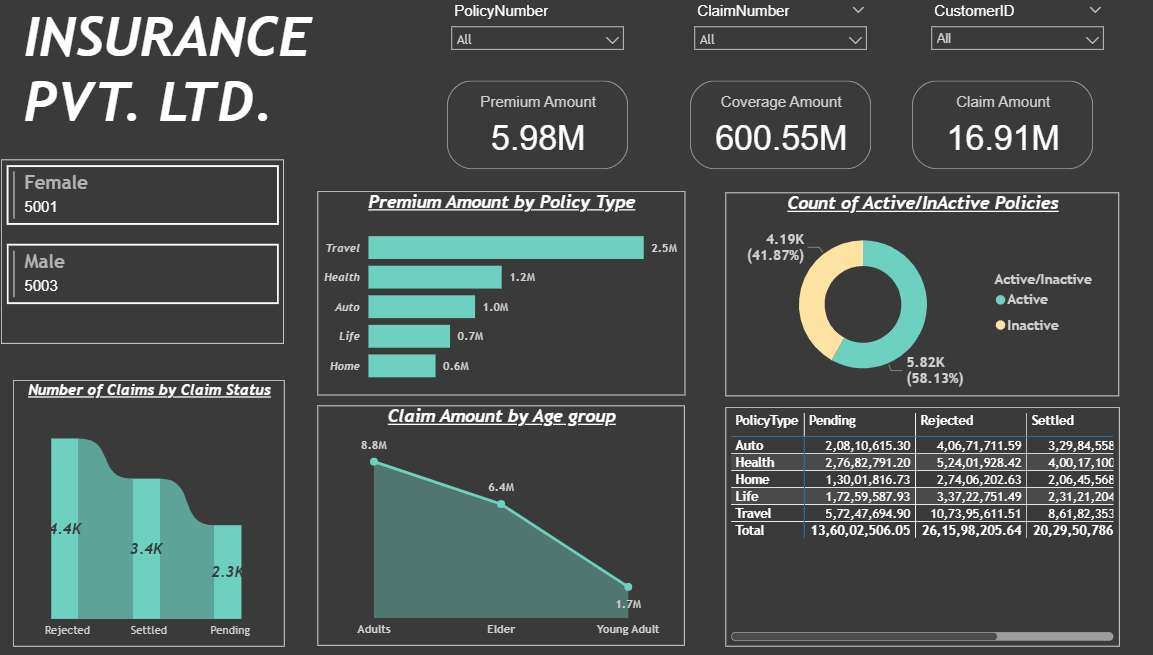

Layout of this report page (visuals, bound fields, positions):
{"tool":"powerbi","page":{"name":"Page 1","canvas":[1280,720],"ordinal":0},"visuals":[{"type":"slicer","fields":{"Values":["InsuranceData.PolicyNumber"]},"box":[477.9,17.6,202.9,76.5],"z":0},{"type":"slicer","fields":{"Values":["InsuranceData.ClaimNumber"]},"box":[735.3,17.6,202.9,76.5],"z":1000},{"type":"slicer","fields":{"Values":["InsuranceData.CustomerID"]},"box":[986.8,17.6,202.9,76.5],"z":2000},{"type":"textbox","box":[27.9,19.1,369.1,151.5],"z":3000},{"type":"cardVisual","fields":{"Data":["Sum(InsuranceData.PremiumAmount)"]},"box":[477.9,100,202.9,104.4],"z":4000},{"type":"cardVisual","fields":{"Data":["Sum(InsuranceData.CoverageAmount)"]},"box":[735.3,100,202.9,104.4],"z":5000},{"type":"cardVisual","fields":{"Data":["Sum(InsuranceData.ClaimAmount)"]},"box":[970.6,100,202.9,104.4],"z":6000},{"type":"multiRowCard","fields":{"Values":["InsuranceData.Gender","CountNonNull(InsuranceData.Gender)"]},"box":[10.3,189.7,300,195.6],"z":7000},{"type":"ribbonChart","title":"Number of Claims by Claim Status","fields":{"Category":["InsuranceData.ClaimStatus"],"Y":["CountNonNull(InsuranceData.ClaimStatus)"]},"box":[22.1,423.5,288.2,282.4],"z":8000},{"type":"barChart","title":"Premium Amount by Policy Type","fields":{"Category":["InsuranceData.PolicyType"],"Y":["Sum(InsuranceData.PremiumAmount)"]},"box":[345.8,222,389.8,216.9],"z":9000},{"type":"lineChart","title":"Claim Amount by Age group","fields":{"Category":["InsuranceData.Age Group"],"Y":["Sum(InsuranceData.ClaimAmount)"]},"box":[345.6,450.9,389.5,254.4],"z":10000},{"type":"donutChart","title":"Count of Active/InActive Policies","fields":{"Category":["InsuranceData.Active/Inactive"],"Y":["CountNonNull(InsuranceData.Active/Inactive)"]},"box":[777.2,224.6,417.5,215.8],"z":11000},{"type":"pivotTable","fields":{"Values":["Sum(InsuranceData.CoverageAmount)"],"Rows":["InsuranceData.PolicyType"],"Columns":["InsuranceData.ClaimStatus"]},"box":[777.1,451.4,417.9,254.3],"z":12000}]}

Visuals, with their boxes in screenshot pixels (x1, y1, x2, y2), scaled from the page's 1280x720 canvas onto the 1153x655 screenshot:
slicer - InsuranceData.PolicyNumber: left=430, top=16, right=613, bottom=86
slicer - InsuranceData.ClaimNumber: left=662, top=16, right=845, bottom=86
slicer - InsuranceData.CustomerID: left=889, top=16, right=1072, bottom=86
textbox: left=25, top=17, right=358, bottom=155
cardVisual - Sum(InsuranceData.PremiumAmount): left=430, top=91, right=613, bottom=186
cardVisual - Sum(InsuranceData.CoverageAmount): left=662, top=91, right=845, bottom=186
cardVisual - Sum(InsuranceData.ClaimAmount): left=874, top=91, right=1057, bottom=186
multiRowCard - InsuranceData.Gender x CountNonNull(InsuranceData.Gender): left=9, top=173, right=280, bottom=351
"Number of Claims by Claim Status" ribbonChart: left=20, top=385, right=280, bottom=642
"Premium Amount by Policy Type" barChart: left=311, top=202, right=663, bottom=399
"Claim Amount by Age group" lineChart: left=311, top=410, right=662, bottom=642
"Count of Active/InActive Policies" donutChart: left=700, top=204, right=1076, bottom=401
pivotTable - Sum(InsuranceData.CoverageAmount) x InsuranceData.PolicyType: left=700, top=411, right=1076, bottom=642
